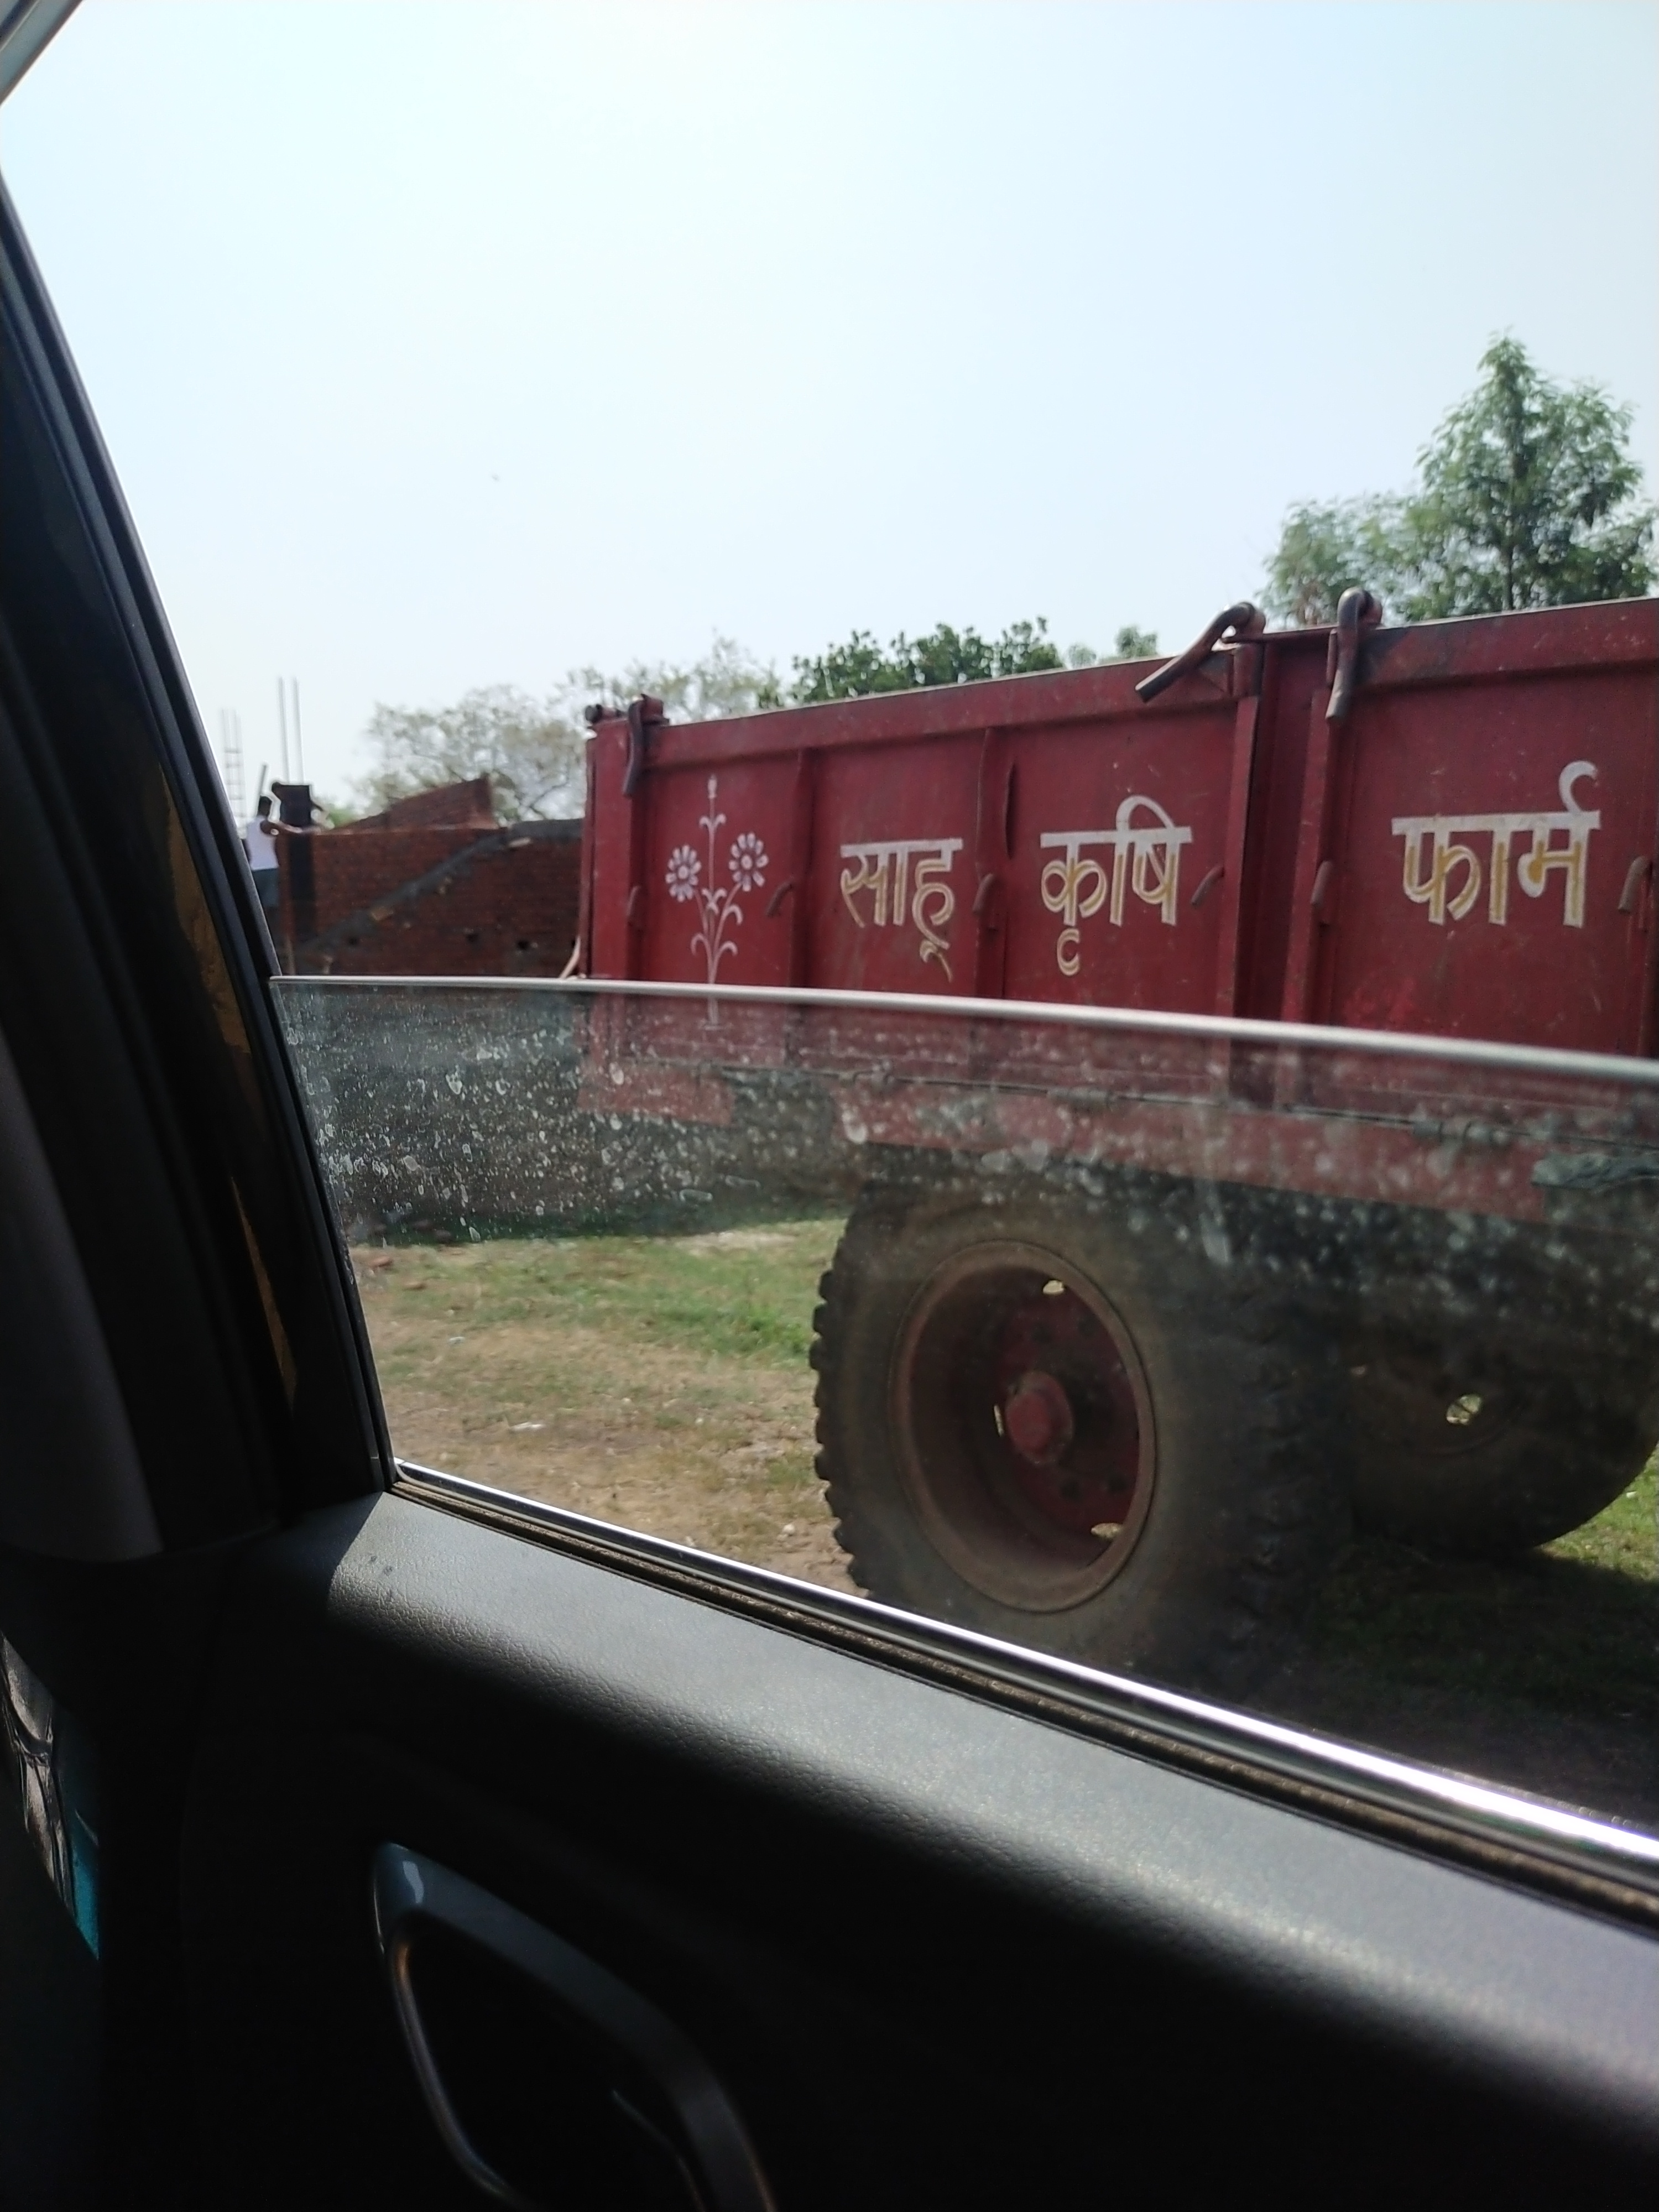tractor: (551, 585, 1659, 1724)
